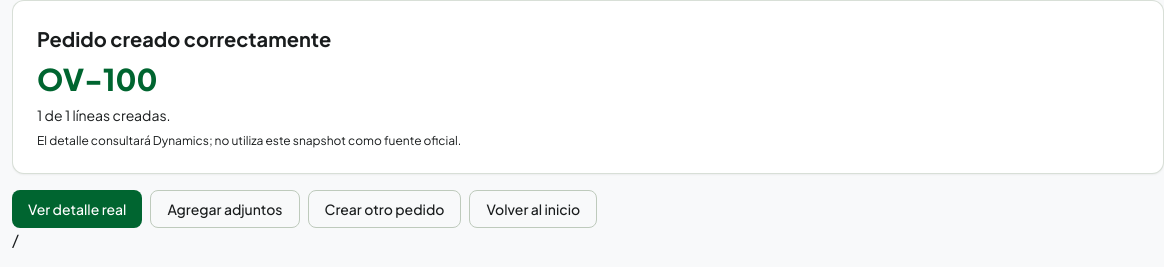
Test: OrderDraftReviewPage recovery, editing and navigation coverage › routes completed orders through Crear otro pedido
What coordinates should you click on to do the following:
click the button "Crear otro pedido"
I would click on:
 (384, 209)
Its box is [308, 190, 461, 228].
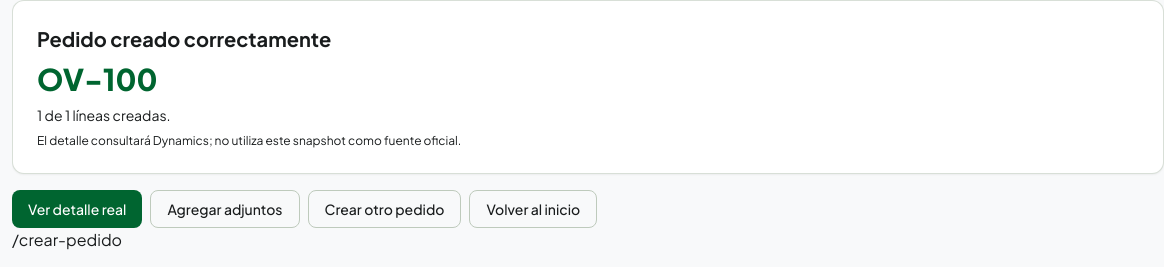
expect the text with test id "location" reads "/crear-pedido": met, box [12, 229, 122, 250]
